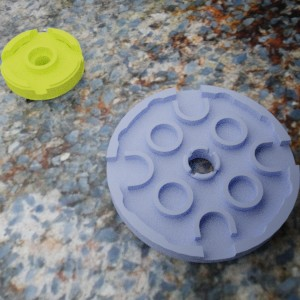lego: (106, 84, 300, 262), (0, 28, 84, 99)
